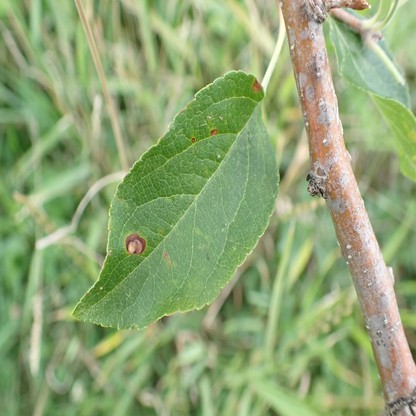frogeye_leaf_spot: (125, 235, 146, 254), (253, 78, 261, 92), (211, 128, 218, 135), (191, 136, 195, 143)
